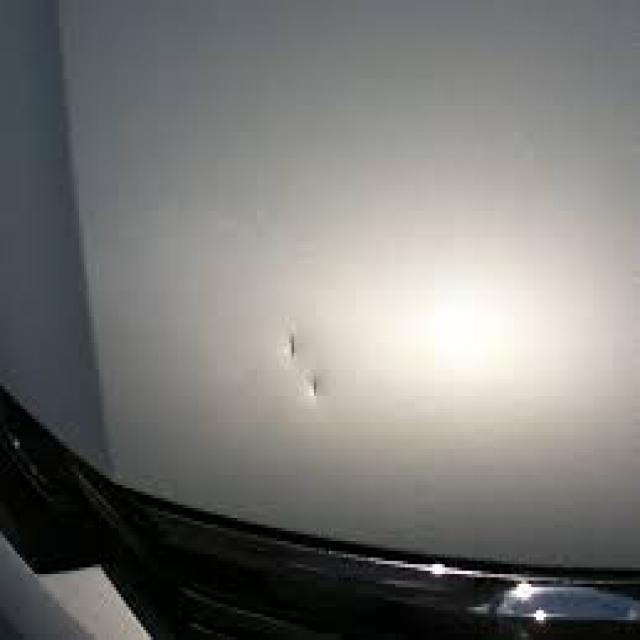bonnet-dent: (0, 4, 638, 601)
